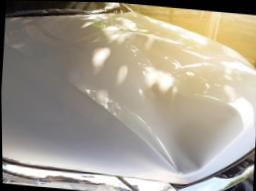Bonnet: (63, 49, 256, 177)
